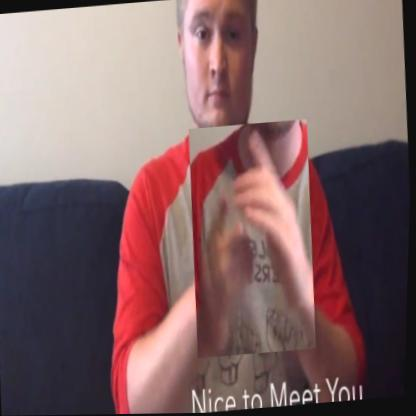NiceToMeetYou: (185, 120, 324, 360)
